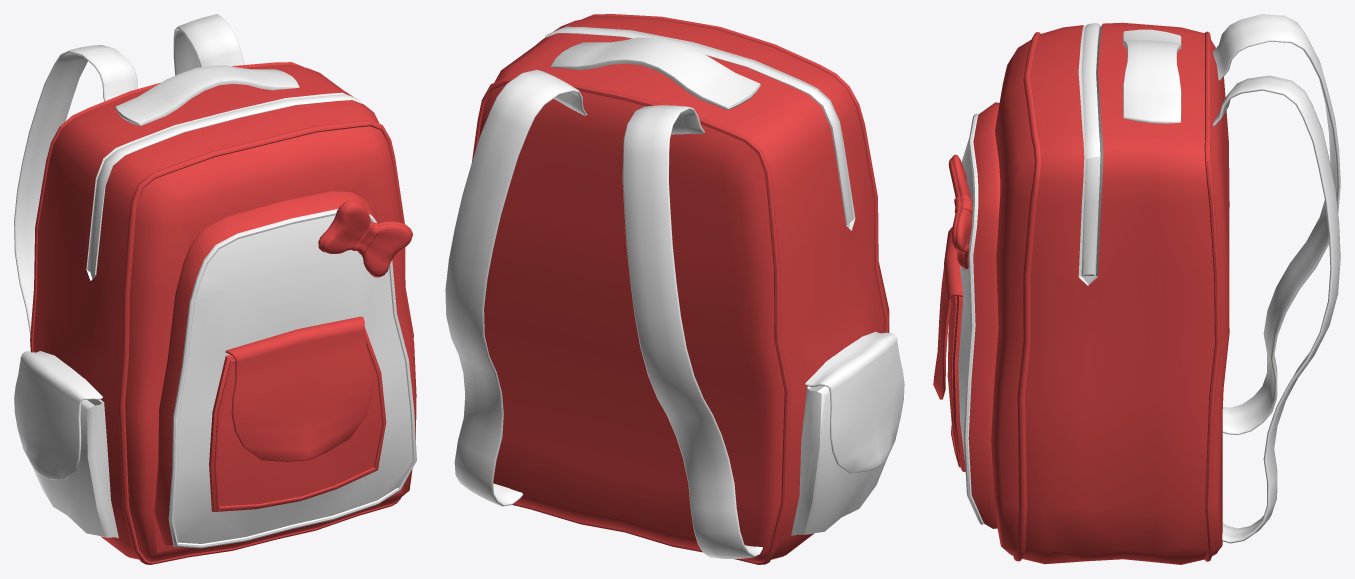
The model's file is Bedroom_Schoolbag.FBX.
3 views of the same model, side by side, from view 1: azimuth 30°, elevation 25°; view 2: azimuth 150°, elevation 25°; view 3: azimuth 270°, elevation 25° (orthographic). The views are drawn at different scales.
Visible parts, largest first — view 1: Box001; view 2: Box001; view 3: Box001.
Boxes of the visible parts, x1,y1,x2,y2 form: Box001: (14,14,416,564); Box001: (445,14,904,564); Box001: (933,14,1340,564).
Bounding box in the file's own units: 64.1 × 77.18 × 63.31.
1 material, 1 textured.
